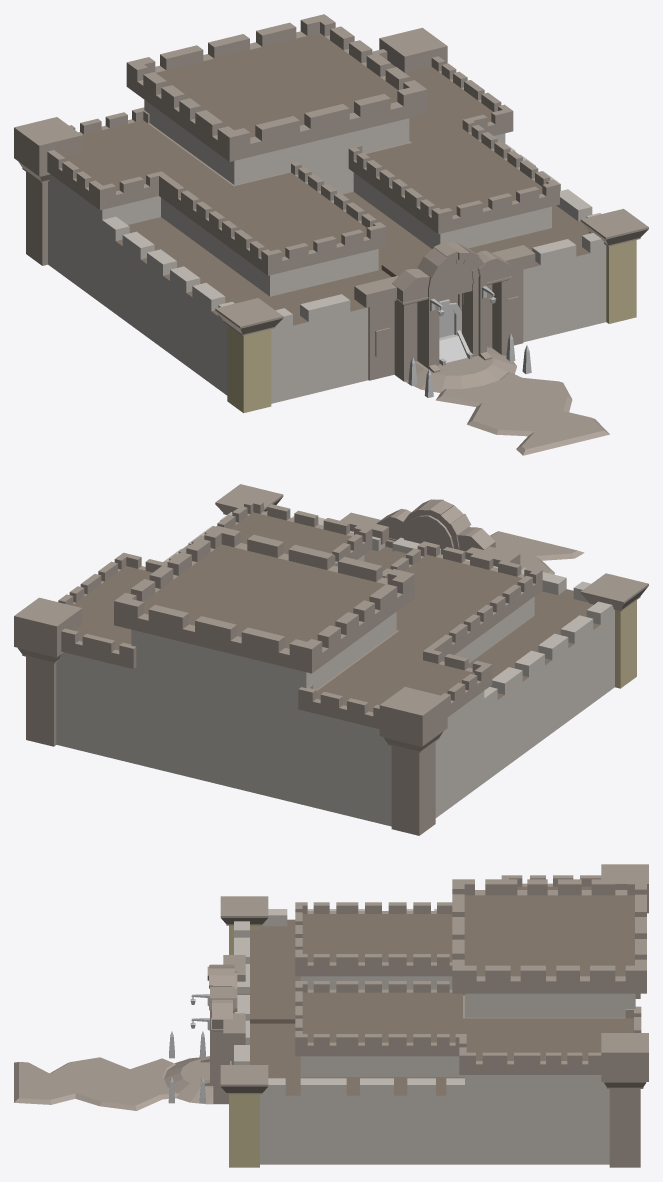
Rendered from tomb2_scene6_collide.fbx.
3 views of the same model, one above another, from view 1: azimuth 30°, elevation 25°; view 2: azimuth 150°, elevation 25°; view 3: azimuth 270°, elevation 25° (orthographic). The views are drawn at different scales.
Parts seen in each view (by area): view 1: Tomb_interior_02_floorplan2collide:exterior, Tomb_interior_02_floorplan2collide:interior_and_frontdoor, Tomb_template_01b_collide:stairs; view 2: Tomb_interior_02_floorplan2collide:exterior, Tomb_interior_02_floorplan2collide:interior_and_frontdoor; view 3: Tomb_interior_02_floorplan2collide:exterior, Tomb_interior_02_floorplan2collide:interior_and_frontdoor.
Part boxes in pixels (box(x1,y1,x2,y2)): Tomb_interior_02_floorplan2collide:exterior: box(14, 14, 648, 413); Tomb_interior_02_floorplan2collide:interior_and_frontdoor: box(354, 242, 609, 455); Tomb_template_01b_collide:stairs: box(439, 331, 473, 365); Tomb_interior_02_floorplan2collide:exterior: box(14, 484, 648, 835); Tomb_interior_02_floorplan2collide:interior_and_frontdoor: box(340, 499, 584, 574); Tomb_interior_02_floorplan2collide:exterior: box(220, 864, 648, 1167); Tomb_interior_02_floorplan2collide:interior_and_frontdoor: box(14, 955, 245, 1110).
Size of the model in its own units: 26385 by 10106 by 37539.
